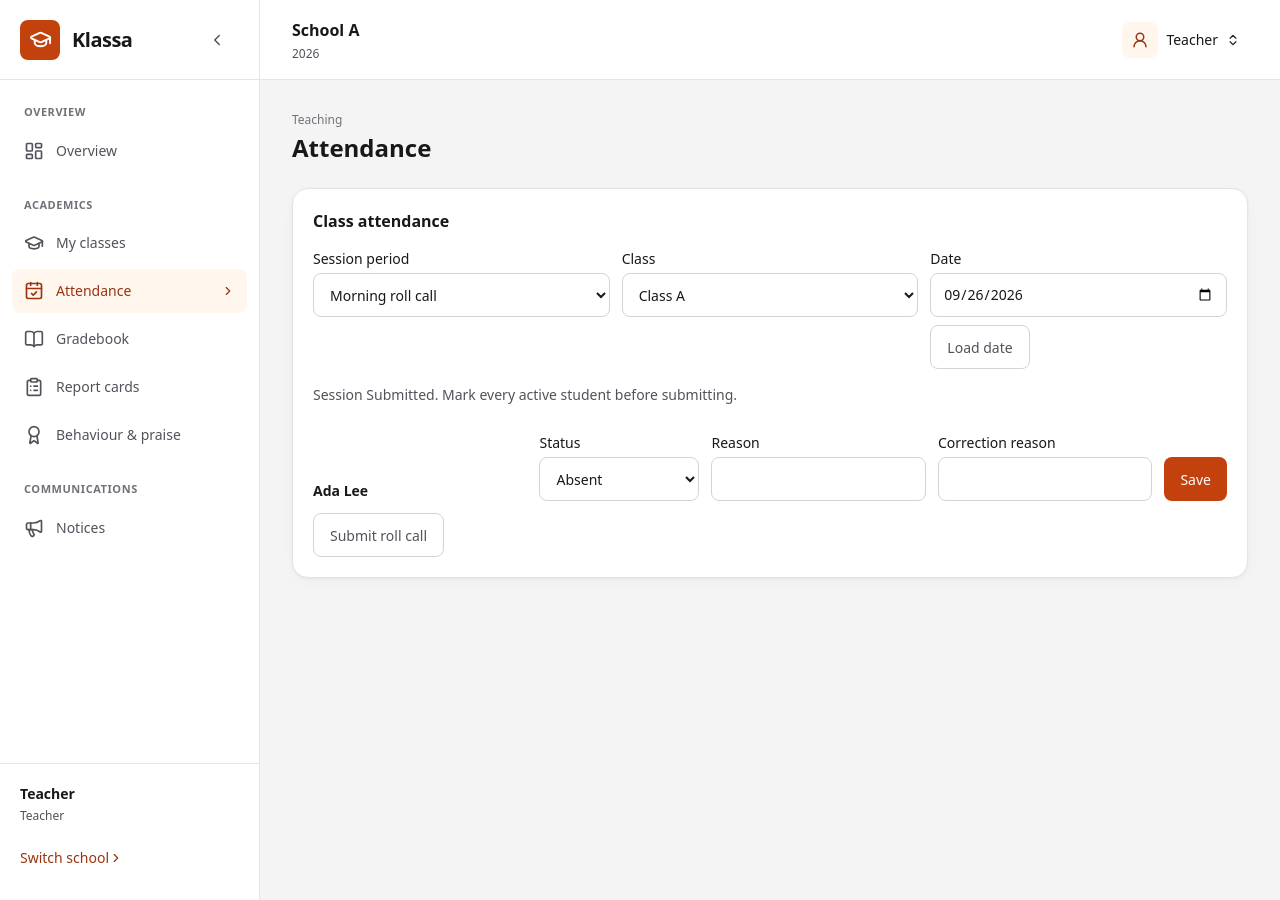
it: teacher period attendance › shows records from the selected period only
Expected: the dropdown labelled "Status" shows "Absent", left=540, top=457, right=700, bottom=501
Select "Period 1" in the dropdown labelled "Session period". click: (461, 295)
box: left=313, top=273, right=610, bottom=317
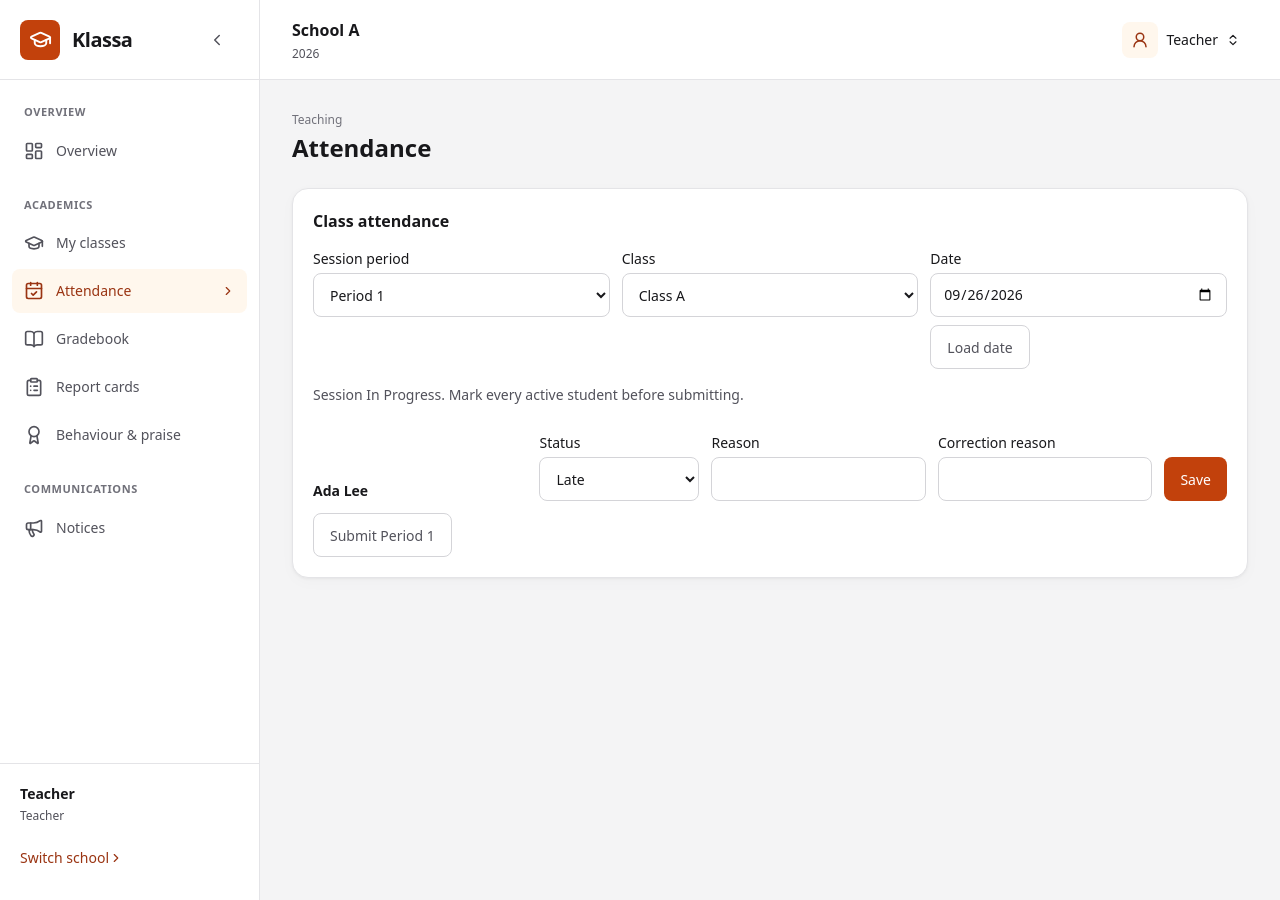
Expected: the dropdown labelled "Status" shows "Late", left=540, top=457, right=700, bottom=501
